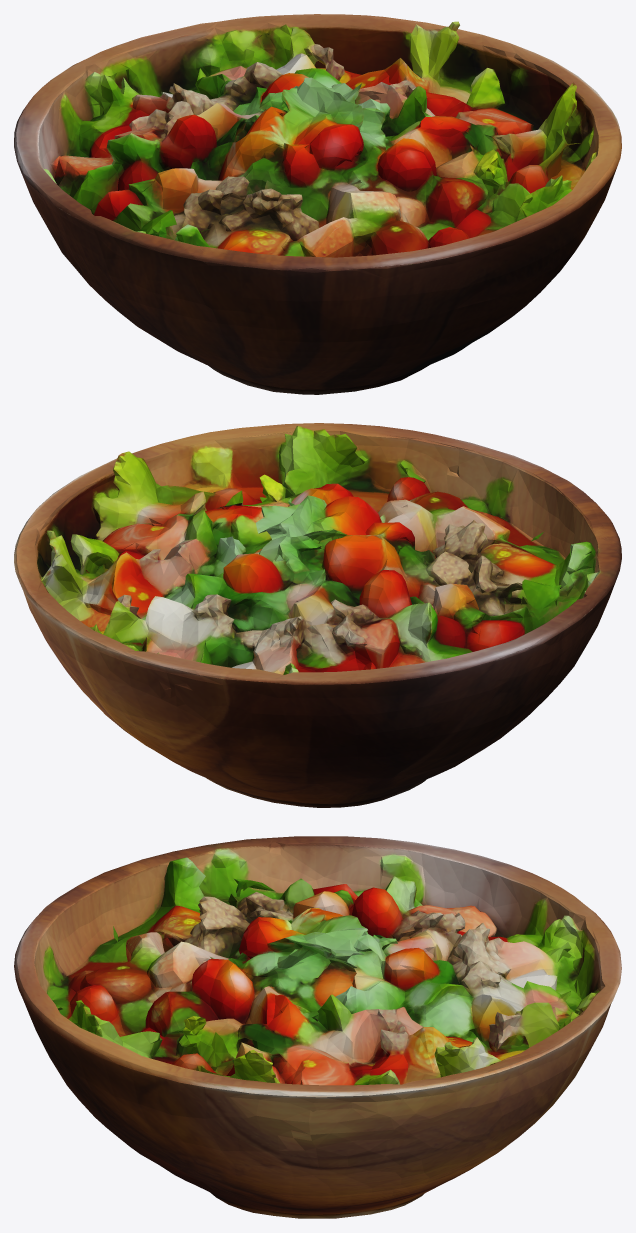
The model's file is wooden-salad-bowl-3d.jpeg.glb.
3 views of the same model, one above another, from view 1: azimuth 30°, elevation 25°; view 2: azimuth 150°, elevation 25°; view 3: azimuth 270°, elevation 25° (orthographic).
Visible parts, largest first — view 1: world; view 2: world; view 3: world.
Boxes of the visible parts, <box> form: world: <box>14,14,621,394</box>; world: <box>14,423,621,807</box>; world: <box>14,836,621,1218</box>.
Size of the model in its own units: 0.9986 by 0.4492 by 0.9967.
Materials: 1 (1 with a texture image).
